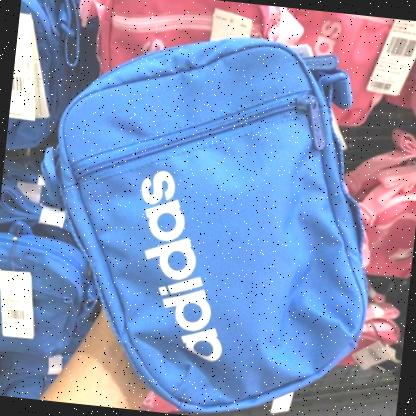bag: (9, 11, 401, 416)
